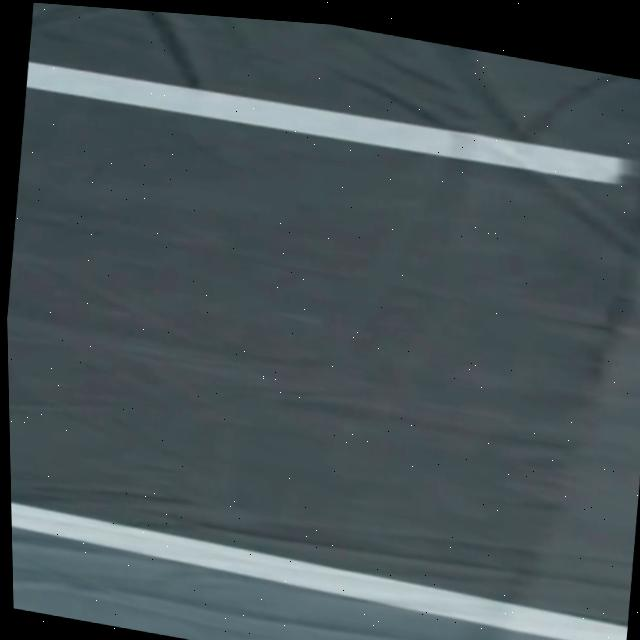center: (25, 61, 634, 184)
left: (11, 503, 627, 640)
